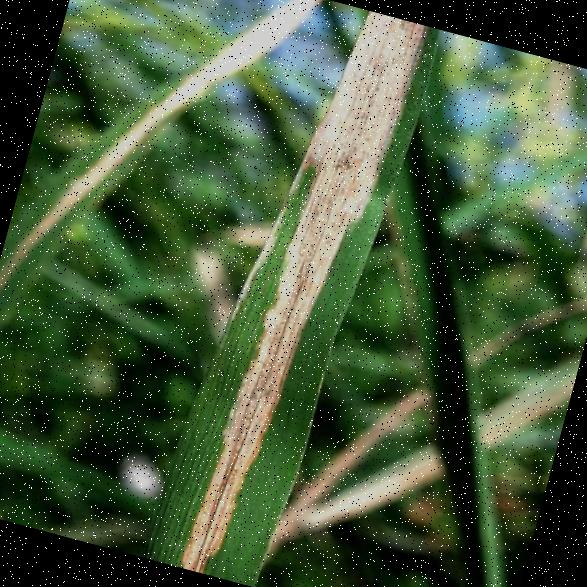Bacteria_Leaf_Blight: (180, 2, 392, 580)
